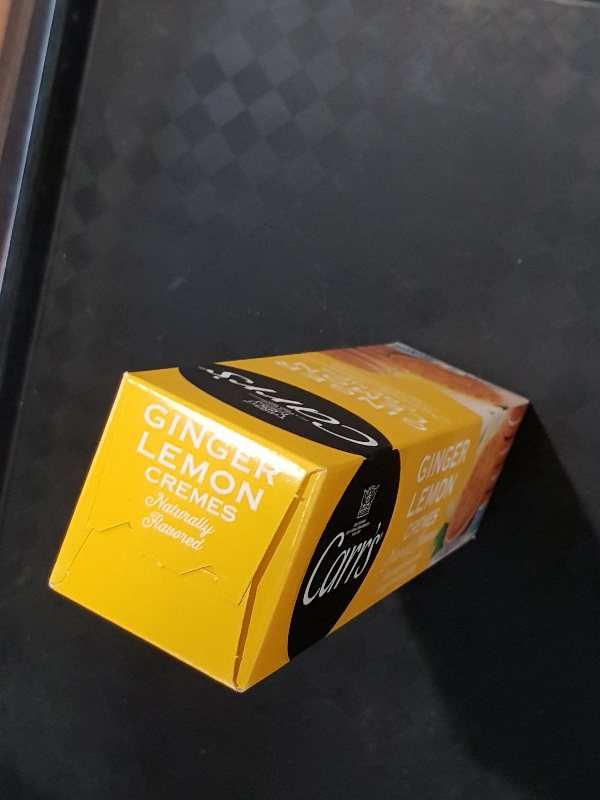Carr's Ginger Lemon Cremes: (47, 338, 530, 695)
